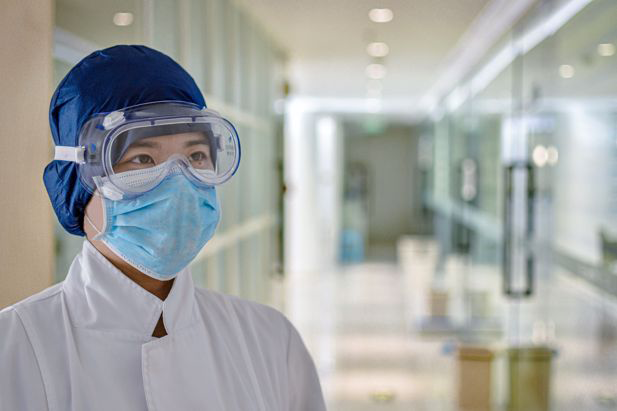Goggles: (74, 98, 243, 195)
with_mask: (99, 144, 220, 280)
